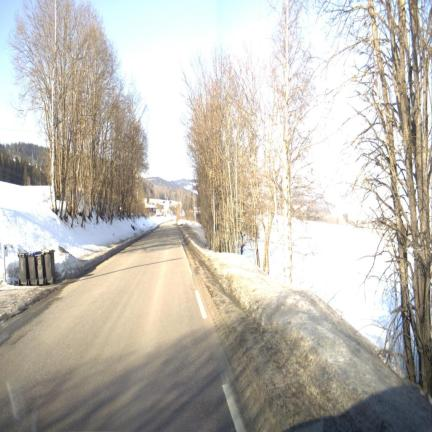Road: (0, 225, 234, 430)
